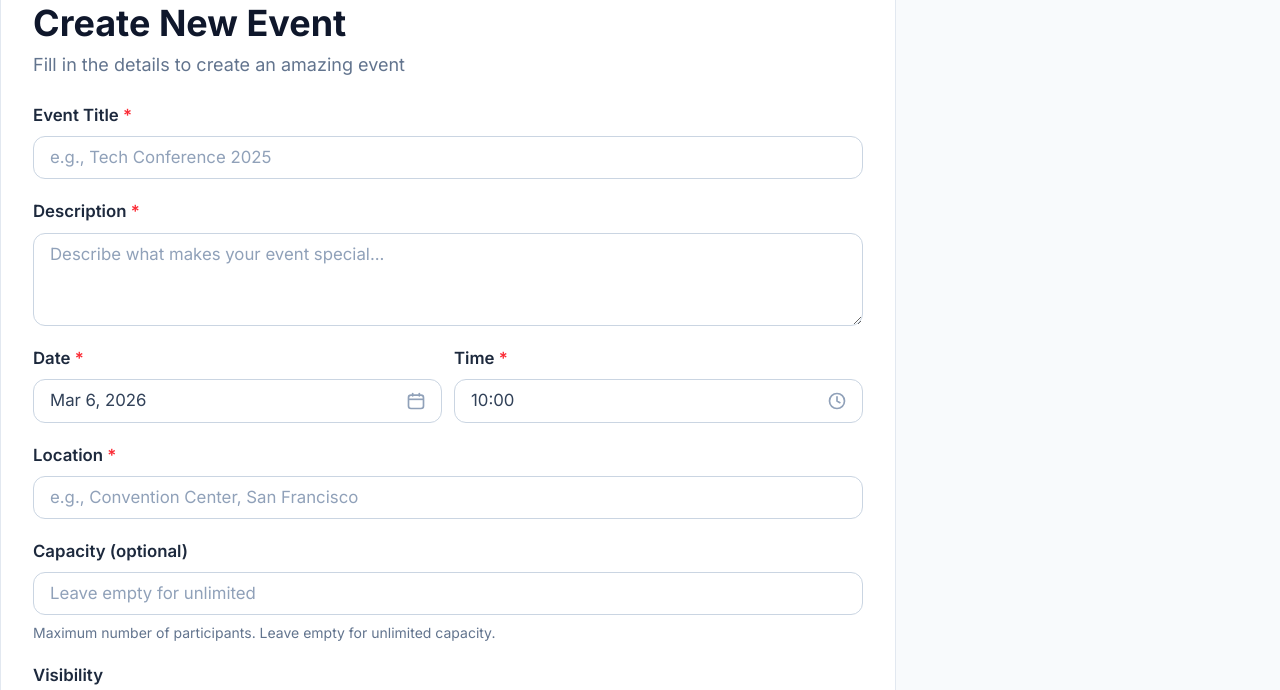
it: CreateEventPage › shows submission error and stays on page when create fails
Type "My Event" into the field with placeholder "e.g., Tech Conference 2025" at (448, 158), box [33,136,863,179]
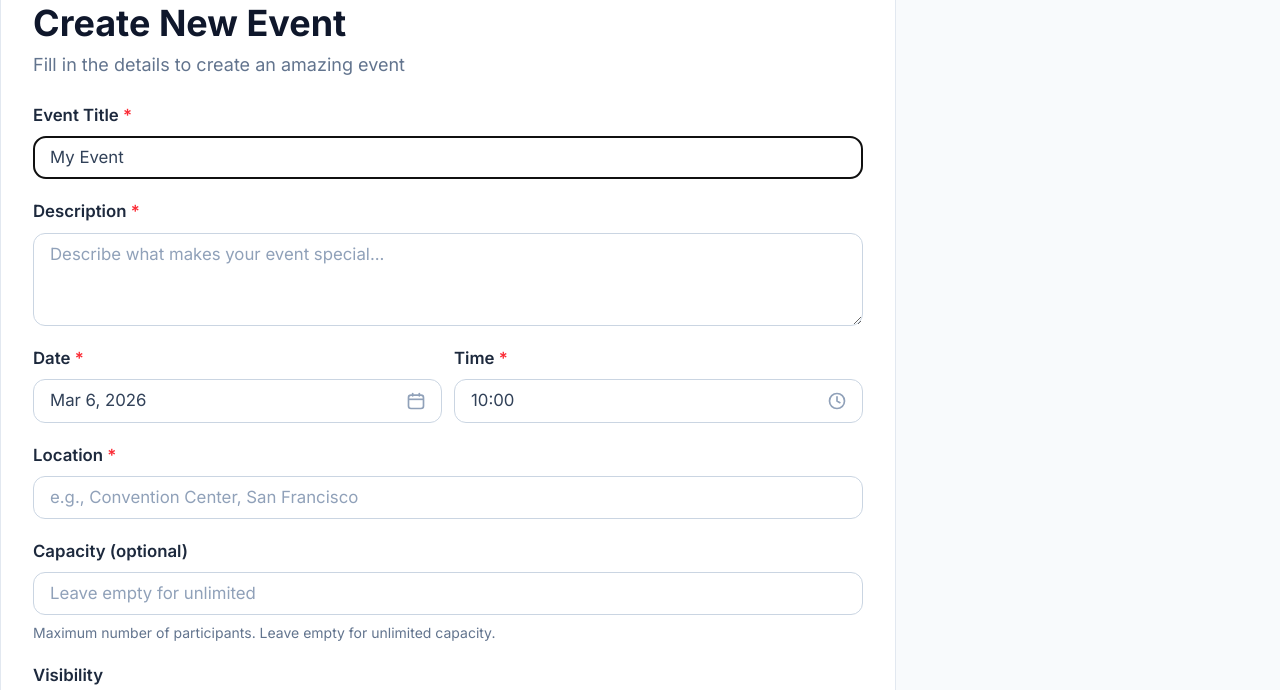
Type "Event description" into the text box with placeholder "Describe what makes your event special..." at (448, 279), box [33,233,863,326]
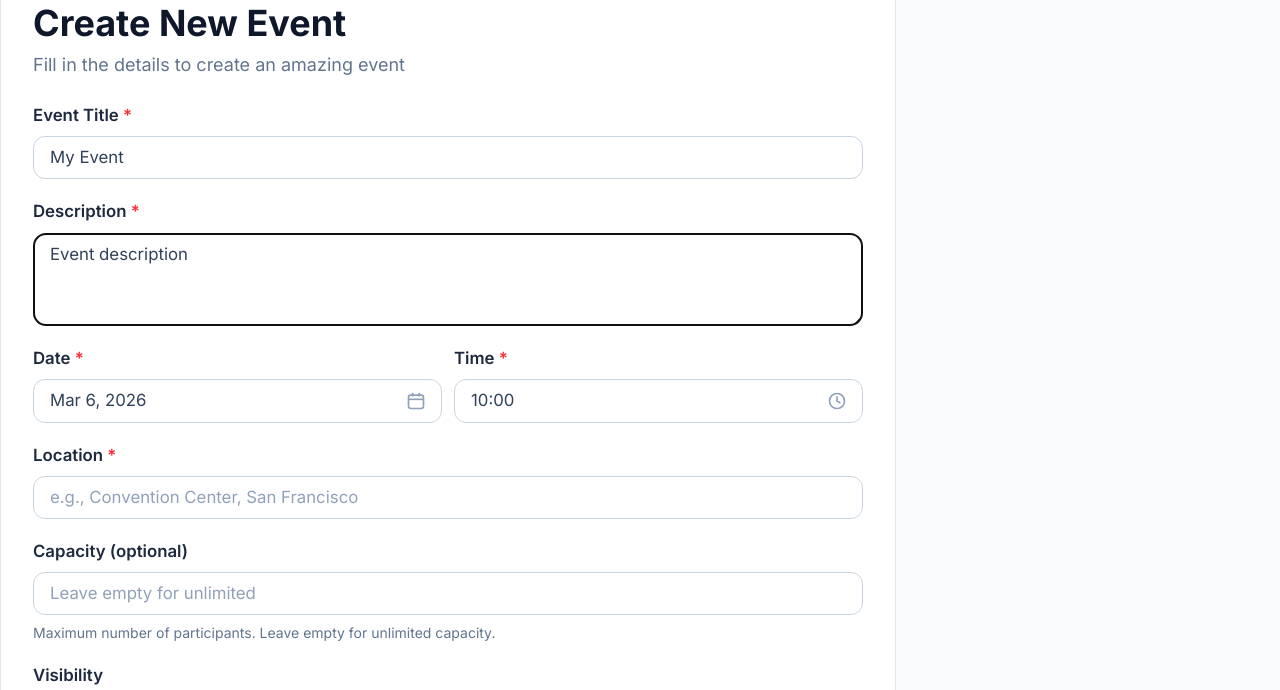
Type "Kyiv" into the field with placeholder "e.g., Convention Center, San Francisco" at (448, 497), box [33,476,863,519]
(page scrolled)
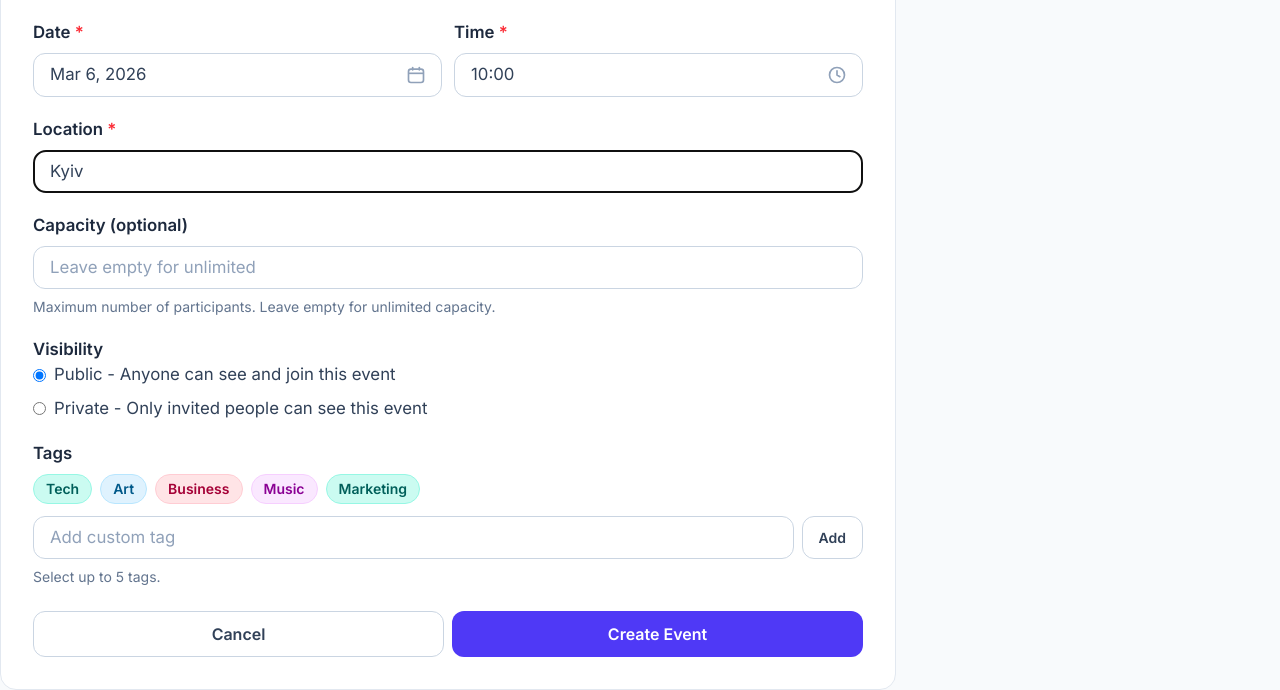
Click the button "Create Event" at (658, 634), box [452,611,863,657]
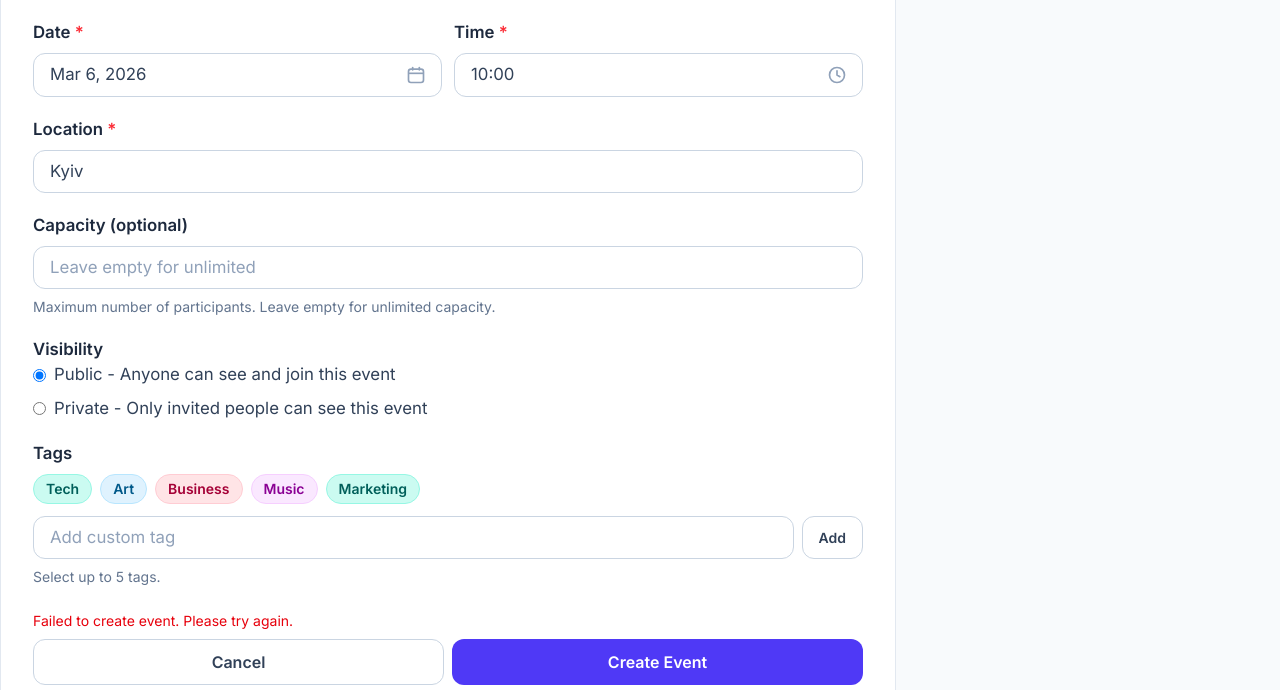
Check: the text "Failed to create event. Please try again." is shown, box [33,612,293,629]
